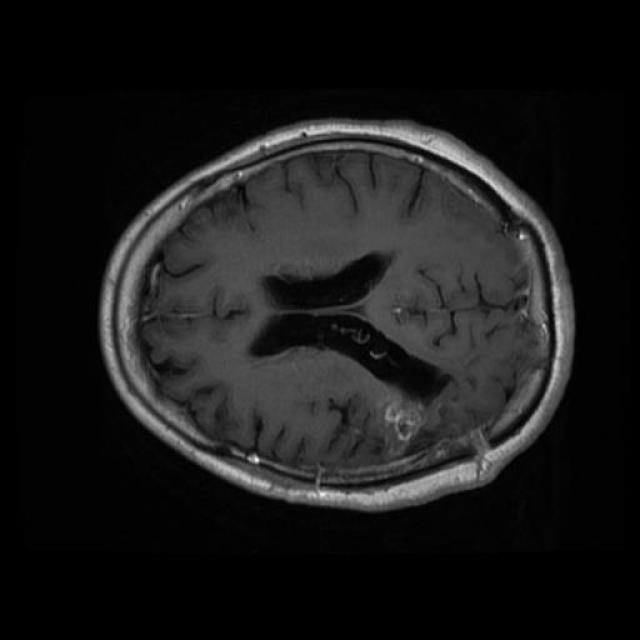Glioma: (358, 382, 468, 479)
